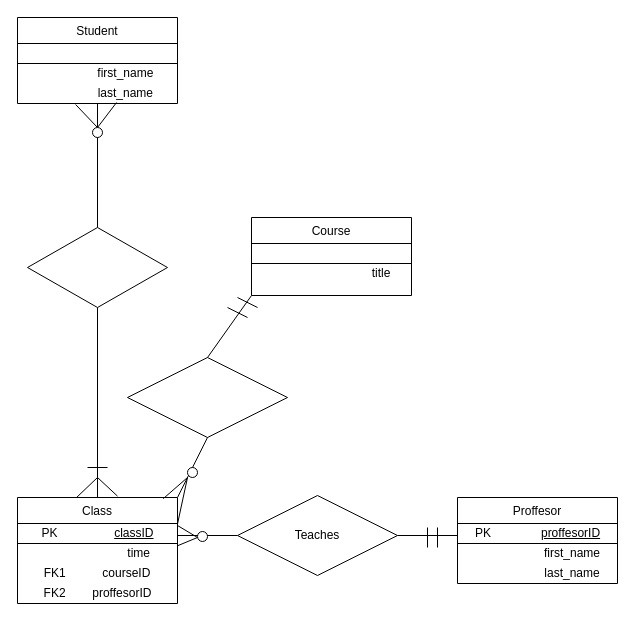
The diagram is 635 pixels wide and 621 high, and some of its shapes have lost their labels. The centre of each missing label's shape, as x and y in pixels:
Offers: point (207, 397)
PK courseID: point (331, 253)
PK studentID: point (97, 53)
Takes: point (97, 267)
